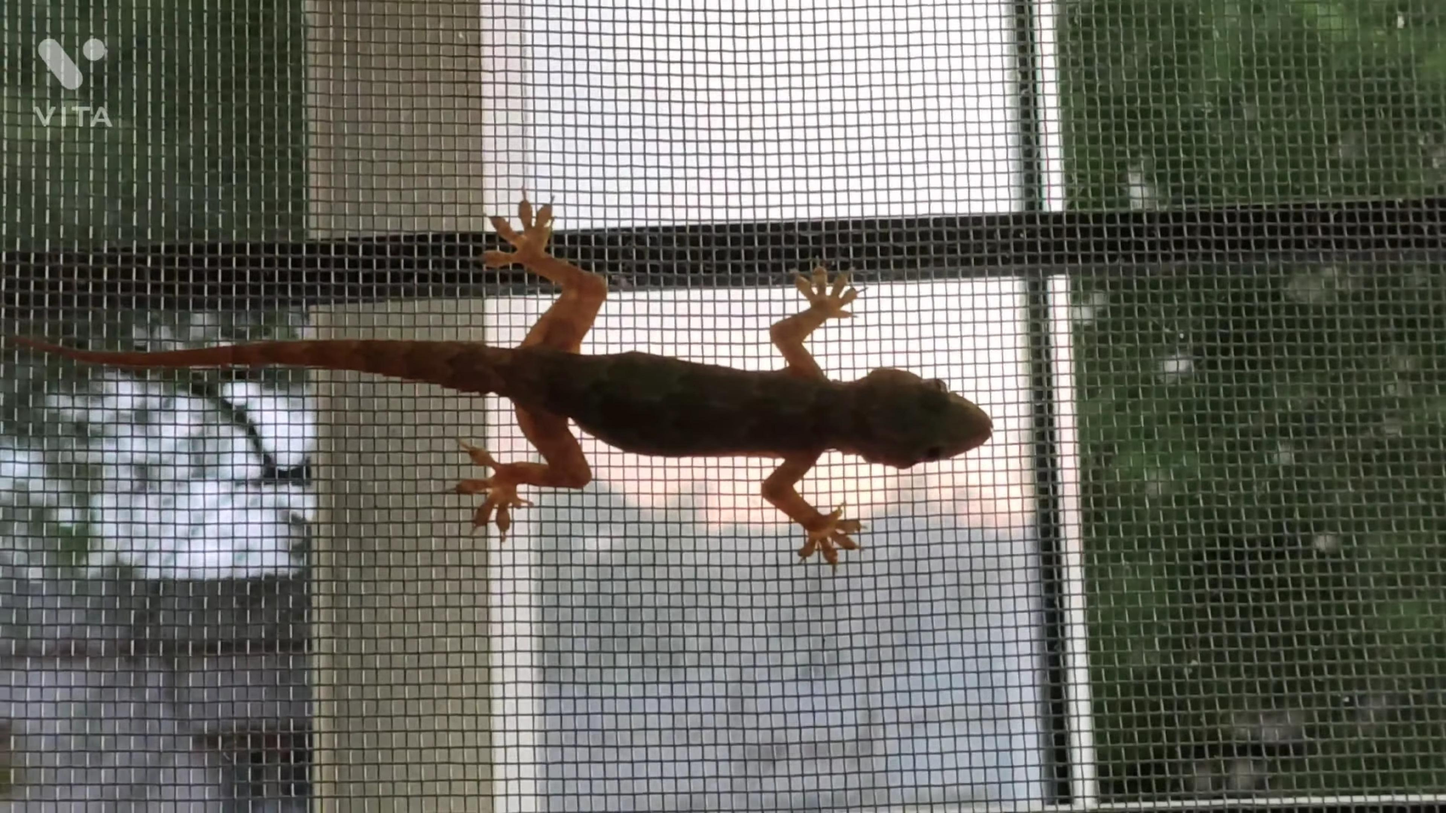lizard: (0, 211, 1027, 584)
